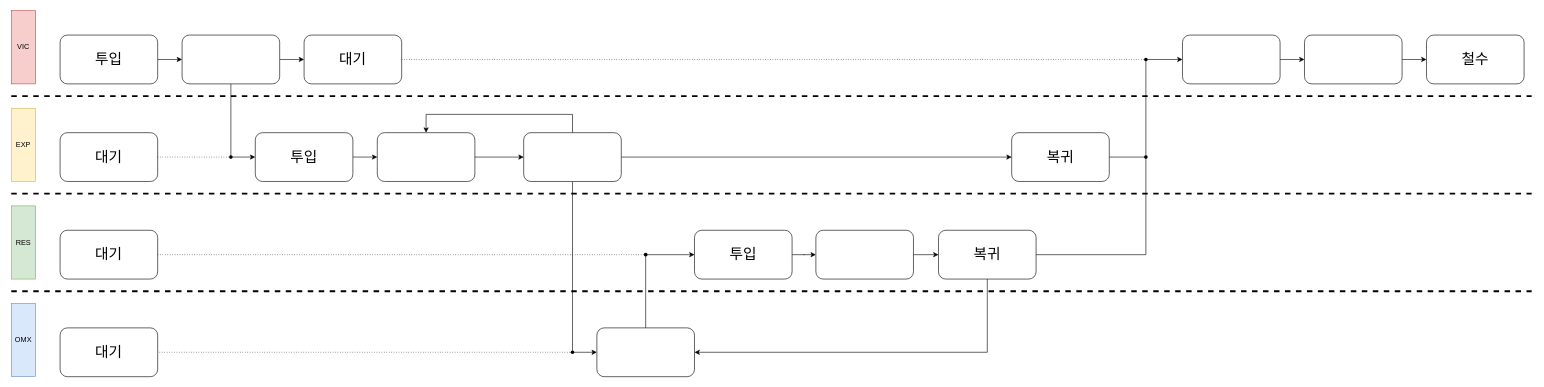
This 1544x387 diagram has some shape labels left out. The box of each missing label's shape, as (x1, y1, x2, y2) in pixels:
경사로 개방: (181, 34, 280, 84)
경사로 폐쇄: (1304, 34, 1402, 84)
구호품 적재: (596, 327, 694, 377)
구호품 전달: (815, 230, 913, 279)
요구조자 발견: (523, 132, 621, 181)
자율탐색: (377, 132, 475, 181)
주차 관제: (1182, 34, 1280, 84)
